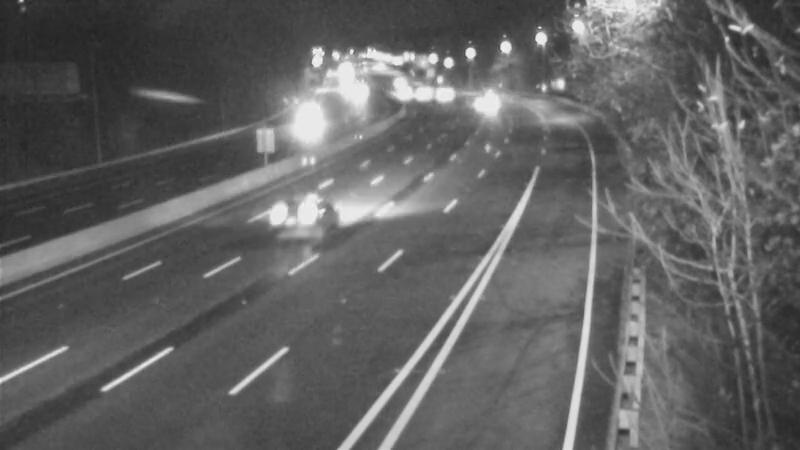vehicle: (261, 180, 341, 260), (395, 68, 445, 118), (382, 73, 432, 123), (416, 70, 466, 120), (453, 77, 503, 127), (283, 94, 333, 144)
